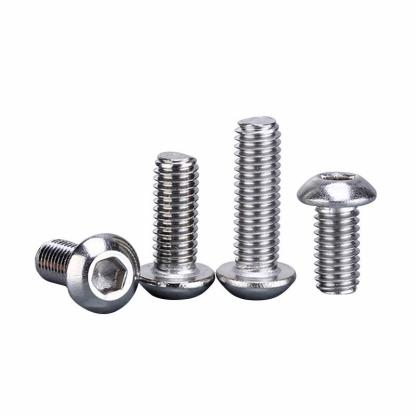FOD: (217, 114, 297, 301), (135, 146, 215, 304), (297, 169, 378, 298), (34, 230, 140, 314)
